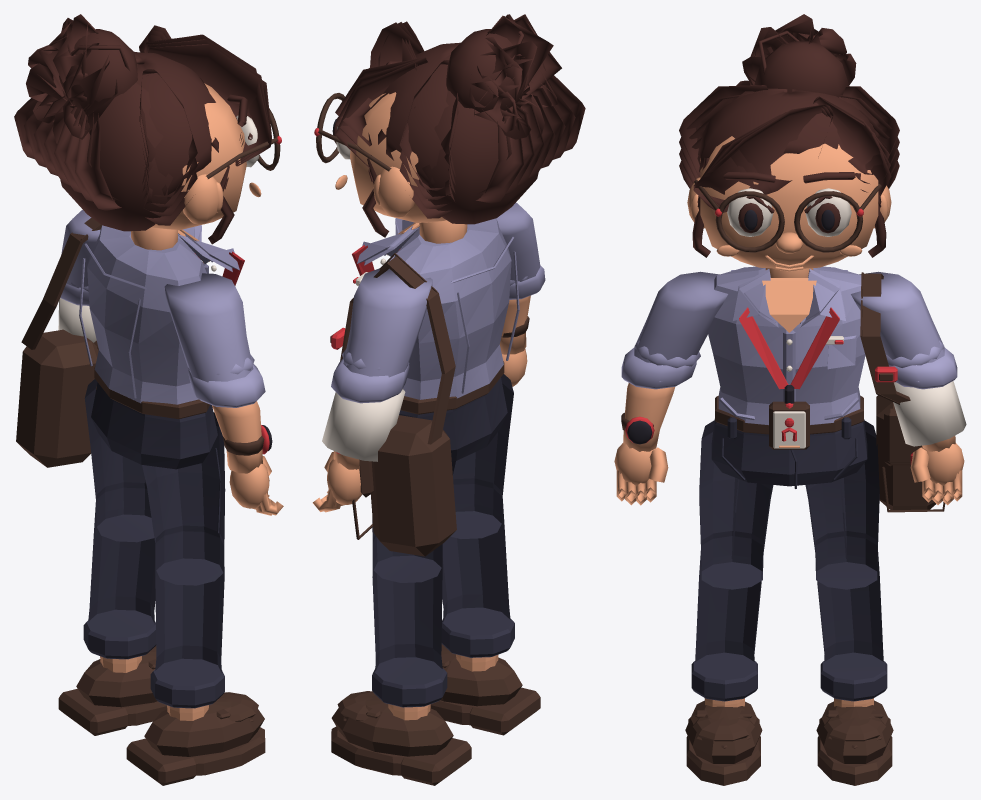
3 views of the same model, side by side, from view 1: azimuth 30°, elevation 25°; view 2: azimuth 150°, elevation 25°; view 3: azimuth 270°, elevation 25° (orthographic). The views are drawn at different scales.
Visible parts, largest first — view 1: head_pal_hairChestnut, torso_pal_lavender, torso_pal_leather, shinR_pal_navy, shinL_pal_navy, footR_pal_leather, legR_pal_navy, armR_pal_lavender, hip_pal_navy, head_pal_skinWarm, footL_pal_leather, legL_pal_navy (+9 smaller); view 2: head_pal_hairChestnut, torso_pal_lavender, torso_pal_leather, shinL_pal_navy, footL_pal_leather, shinR_pal_navy, armL_pal_lavender, head_pal_skinWarm, footR_pal_leather, legR_pal_navy, foreArmL_pal_picketWhite, hip_pal_navy (+12 smaller); view 3: head_pal_hairChestnut, torso_pal_lavender, head_pal_skinWarm, shinL_pal_navy, shinR_pal_navy, legR_pal_navy, legL_pal_navy, hip_pal_navy, torso_pal_leather, armR_pal_lavender, footL_pal_leather, footR_pal_leather (+13 smaller).
Boxes of the visible parts, bbox=[...] form: head_pal_hairChestnut: bbox=[14, 14, 271, 244]; torso_pal_lavender: bbox=[79, 225, 239, 404]; torso_pal_leather: bbox=[16, 217, 101, 467]; shinR_pal_navy: bbox=[150, 525, 224, 708]; shinL_pal_navy: bbox=[83, 482, 156, 659]; footR_pal_leather: bbox=[126, 692, 265, 785]; legR_pal_navy: bbox=[142, 412, 225, 585]; armR_pal_lavender: bbox=[164, 273, 254, 382]; hip_pal_navy: bbox=[91, 382, 217, 469]; head_pal_skinWarm: bbox=[131, 83, 261, 250]; footL_pal_leather: bbox=[58, 645, 167, 735]; legL_pal_navy: bbox=[84, 379, 154, 542]; head_pal_hairChestnut: bbox=[333, 14, 585, 237]; torso_pal_lavender: bbox=[357, 218, 519, 399]; torso_pal_leather: bbox=[330, 253, 456, 556]; shinL_pal_navy: bbox=[372, 535, 447, 707]; footL_pal_leather: bbox=[331, 691, 471, 785]; shinR_pal_navy: bbox=[441, 478, 514, 657]; armL_pal_lavender: bbox=[342, 268, 432, 377]; head_pal_skinWarm: bbox=[335, 92, 467, 243]; footR_pal_leather: bbox=[430, 644, 540, 735]; legR_pal_navy: bbox=[450, 374, 513, 538]; foreArmL_pal_picketWhite: bbox=[322, 389, 405, 461]; hip_pal_navy: bbox=[399, 377, 507, 461]; head_pal_hairChestnut: bbox=[679, 14, 899, 257]; torso_pal_lavender: bbox=[707, 266, 865, 425]; head_pal_skinWarm: bbox=[687, 136, 891, 277]; shinL_pal_navy: bbox=[815, 531, 887, 701]; shinR_pal_navy: bbox=[691, 531, 763, 701]; legR_pal_navy: bbox=[699, 420, 773, 589]; legL_pal_navy: bbox=[805, 420, 879, 589]; hip_pal_navy: bbox=[711, 417, 867, 488]; torso_pal_leather: bbox=[769, 272, 945, 512]; armR_pal_lavender: bbox=[634, 271, 727, 367]; footL_pal_leather: bbox=[816, 700, 893, 785]; footR_pal_leather: bbox=[685, 700, 762, 785].
Size of the model in its own units: 0.54 by 1.83 by 0.8255.
